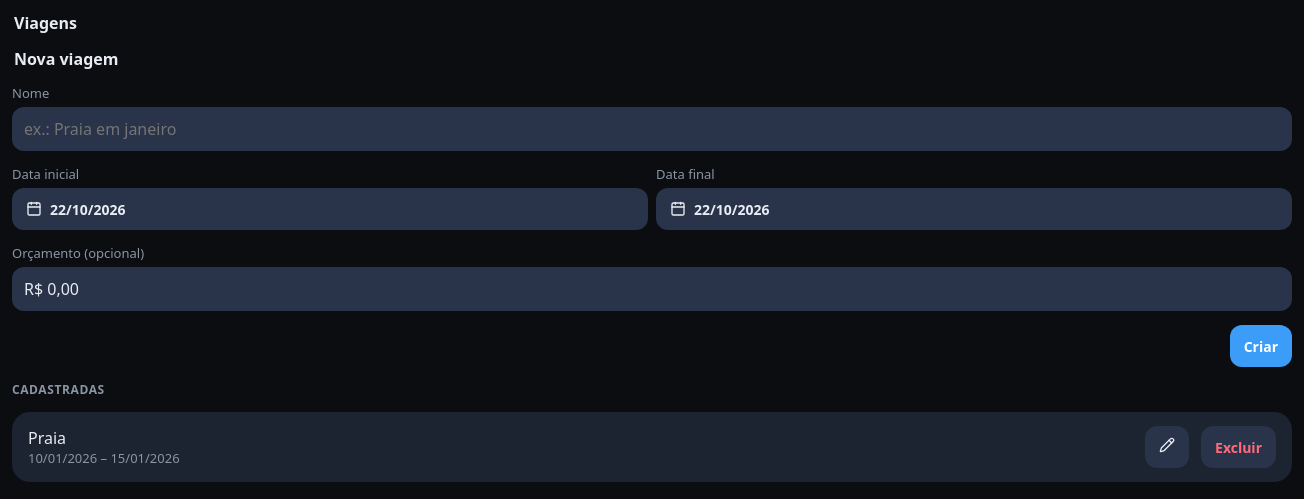
toca no lápis para editar: abre os campos dentro do item e some "Nova viagem"
The width and height of the screenshot is (1304, 499).
Expected: the heading "Nova viagem" is shown, [14,48,118,70]
What coordinates should you click on to do the following:
click the button named "Editar"
I would click on:
 (1167, 447)
Its box is [1145,426,1189,468].
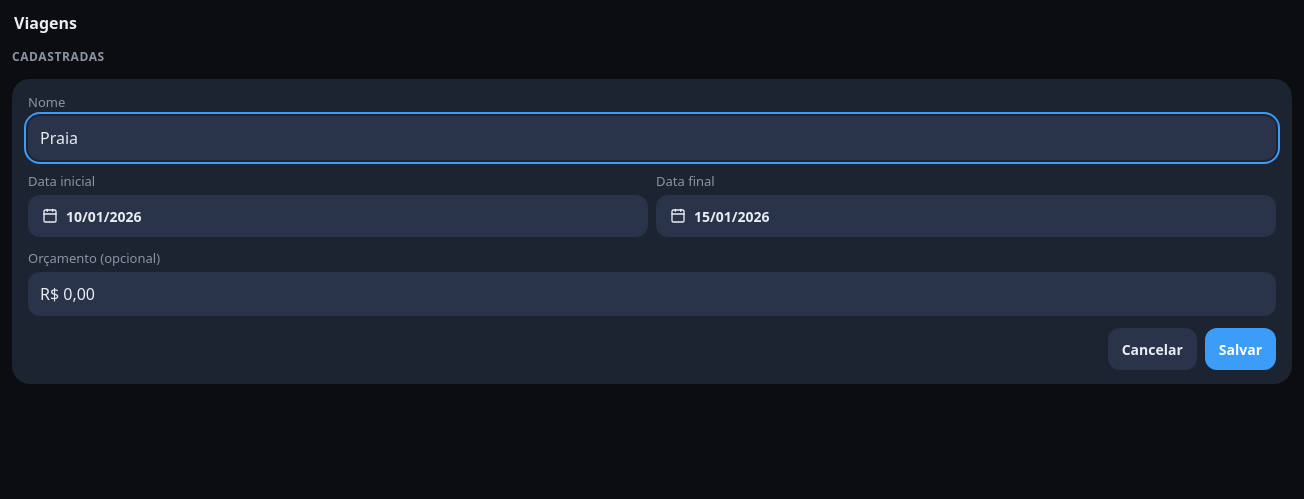
Now the heading "Nova viagem" is gone
Now the field labelled "Nome" holds "Praia", box [28,116,1276,160]
